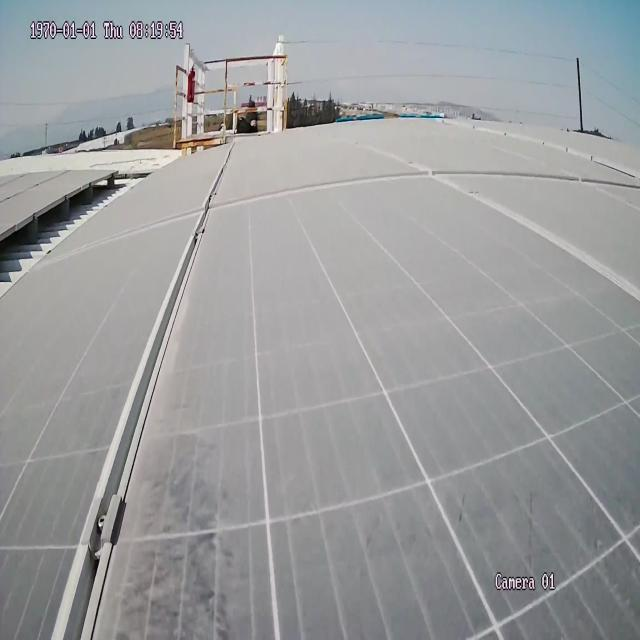interior panel: (45, 141, 640, 635)
outher panel: (1, 165, 168, 290)
